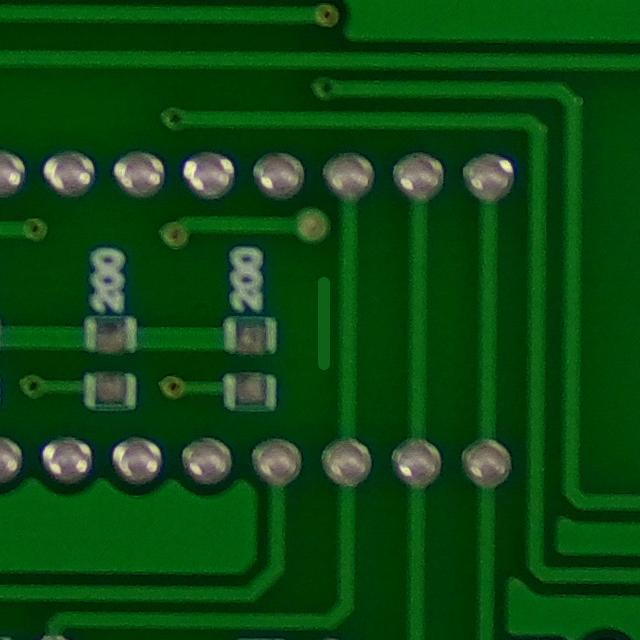spurious_copper: (292, 266, 348, 375)
